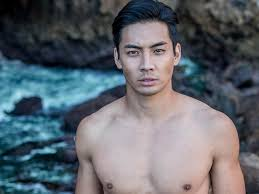asian_male: (103, 1, 199, 92)
